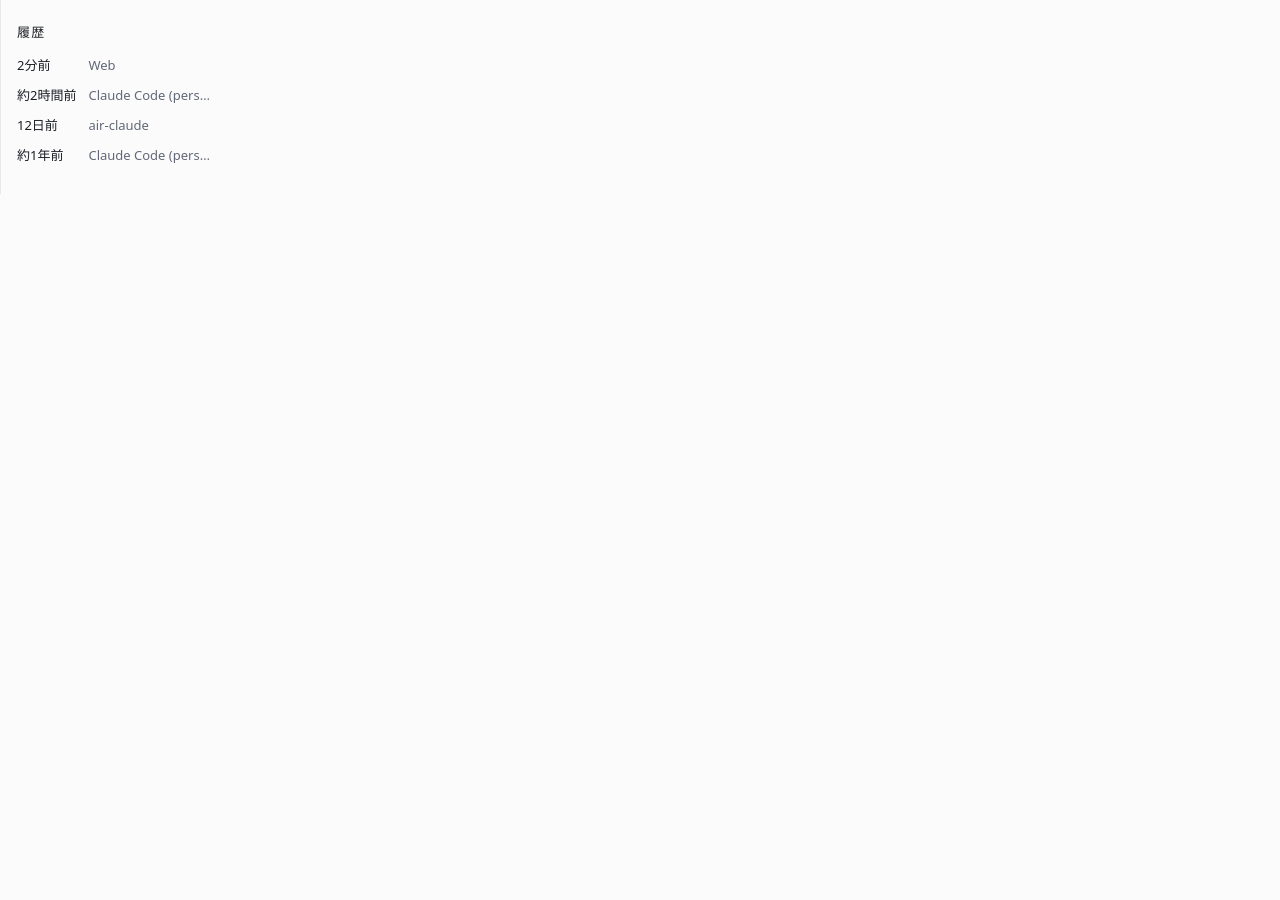
版の差分の並び › 差分が無いと伝える文は、凡例と同じ大きさで出す
Step 1. Click the button with class "revision-entry" showing "2分前 Web" → x=116, y=65, box [17, 50, 214, 80]
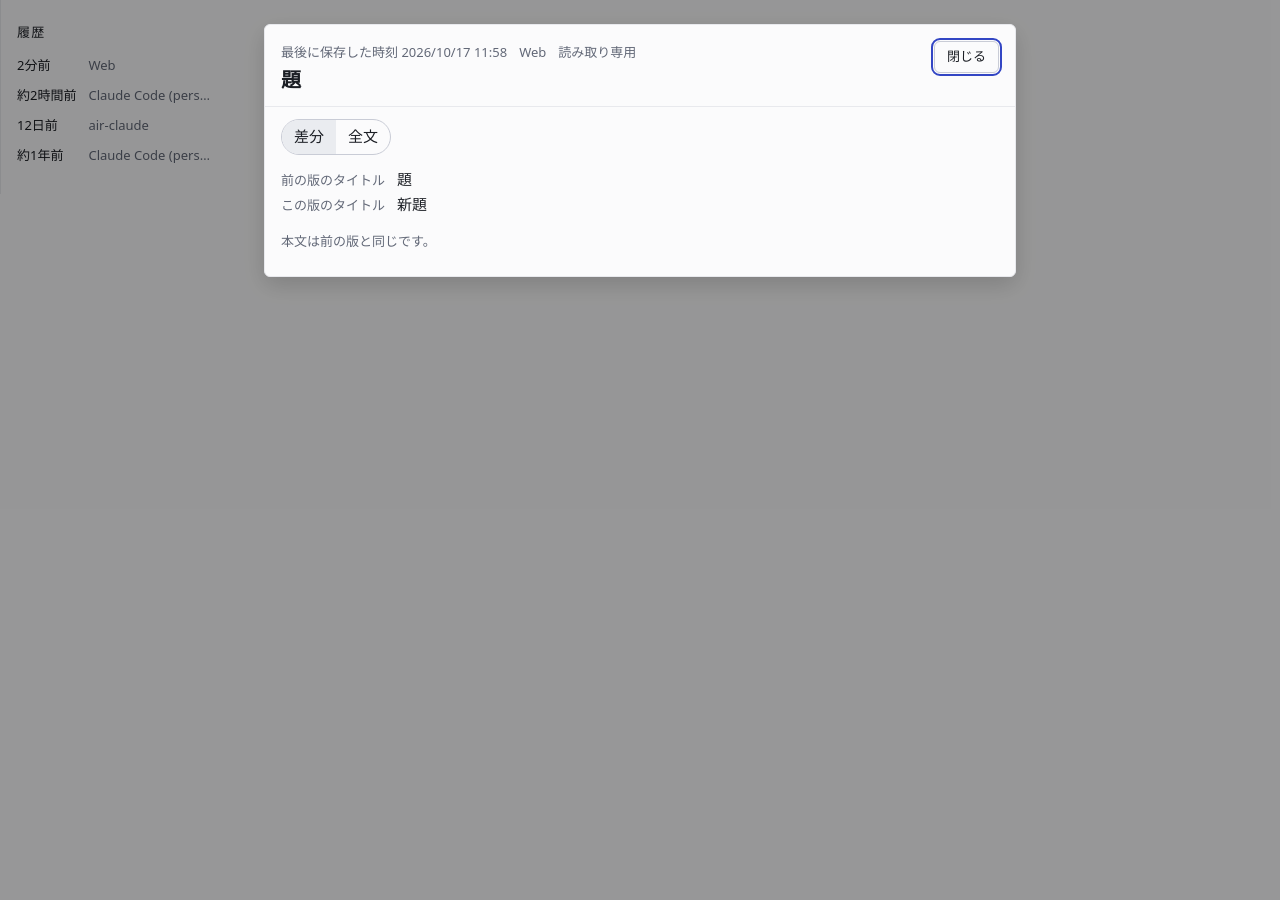
Expected: the dialog with class "revision-viewer" shows "本文は前の版と同じです。", [281, 232, 436, 250]
